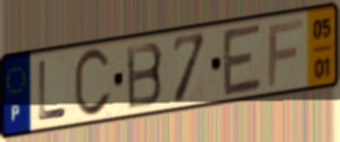7: (171, 29, 207, 106)
B: (124, 40, 165, 113)
C: (72, 46, 114, 121)
E: (221, 21, 264, 100)
F: (266, 16, 306, 90)
L: (37, 58, 69, 124)
